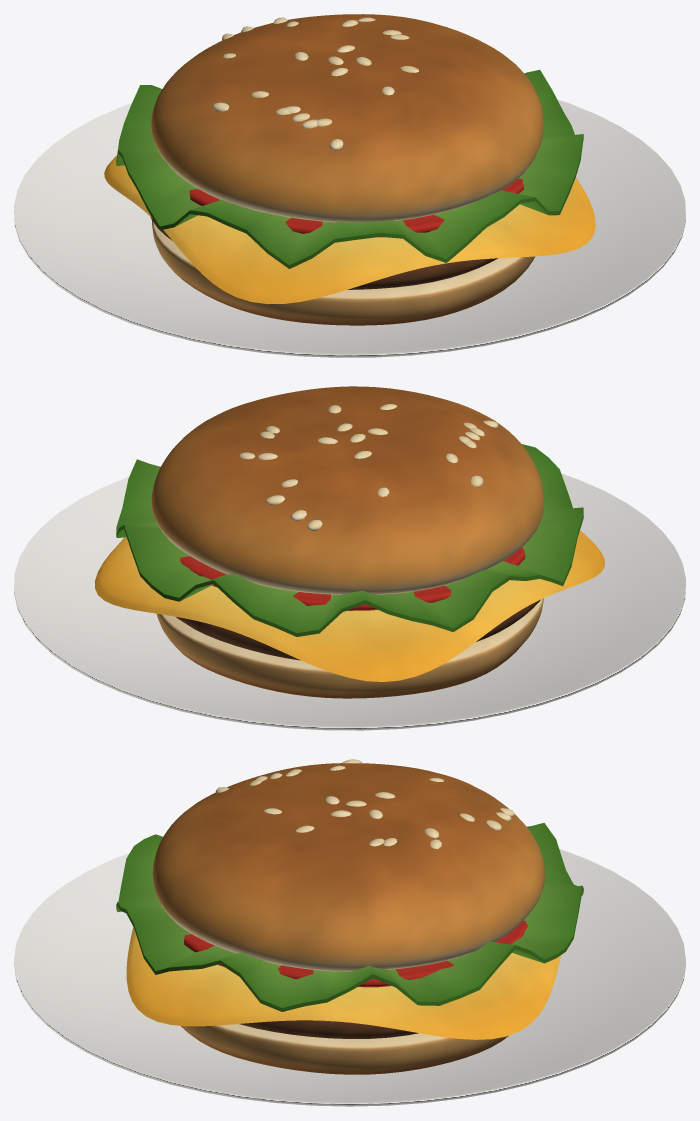
The model's file is smash-burger.glb.
The picture shows the model from 3 angles, top to bottom: view 1: azimuth 30°, elevation 25°; view 2: azimuth 150°, elevation 25°; view 3: azimuth 270°, elevation 25°; orthographic projection.
Parts seen in each view (by area): view 1: Smash Burger; view 2: Smash Burger; view 3: Smash Burger.
Boxes of the visible parts, x1,y1,x2,y2 form: Smash Burger: (14,14,685,357); Smash Burger: (14,386,685,730); Smash Burger: (14,759,685,1106).
Size of the model in its own units: 0.19 by 0.0682 by 0.19.
